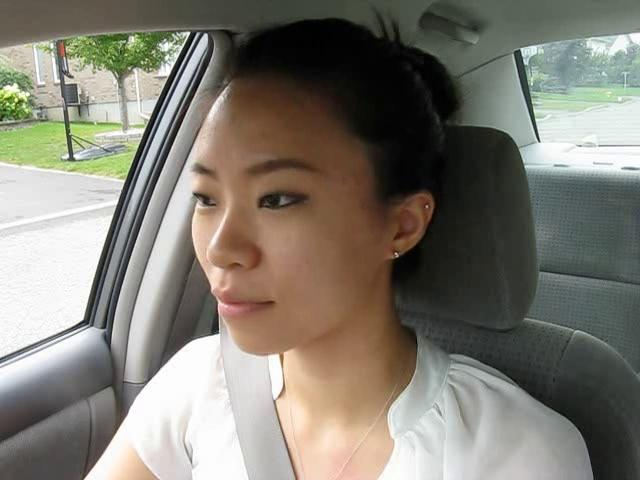no_yawn: (196, 277, 291, 328)
open_eyeL: (183, 180, 227, 222)
open_eyeR: (245, 180, 319, 226)
